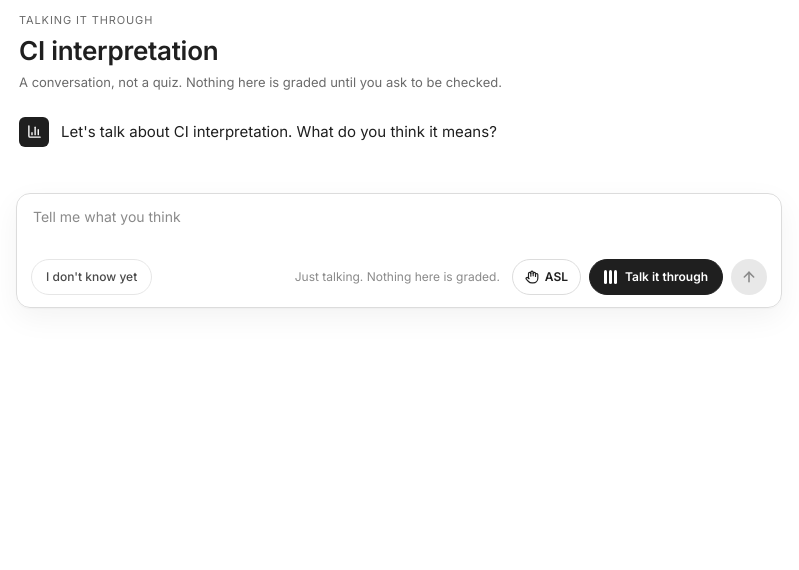
Test: Test this concept, as a conversation › answers what they said, and sends the whole conversation after the opening each time
Type "I think it means I'm 95% sure the mean is in my range" into the text box with placeholder "Tell me what you think" at (399, 228), box [31, 206, 767, 250]
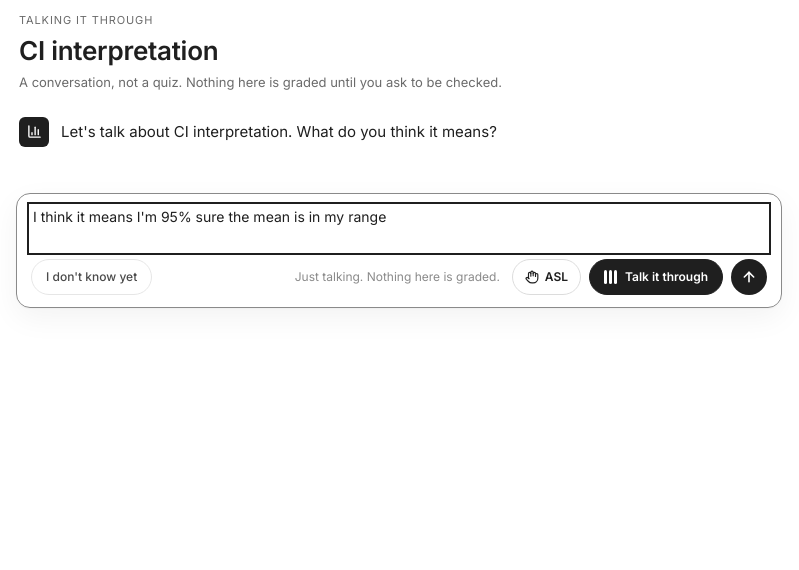
Click the button named "Send" at (749, 276), box [731, 258, 767, 294]
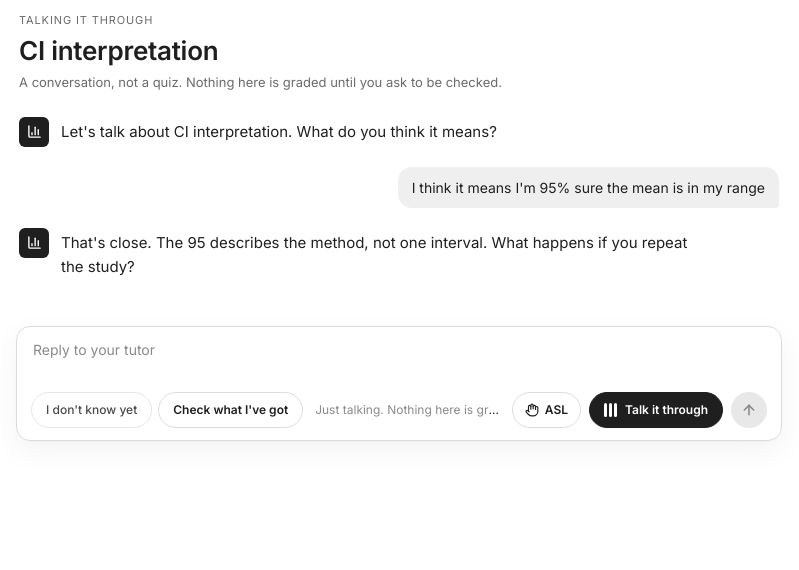
Result: the text "That's close. The 95 describes the method" is shown at [61, 232, 687, 276]
Type "Most of the intervals catch the mean" into the text box with placeholder "Reply to your tutor" at (399, 362), box [31, 339, 767, 384]
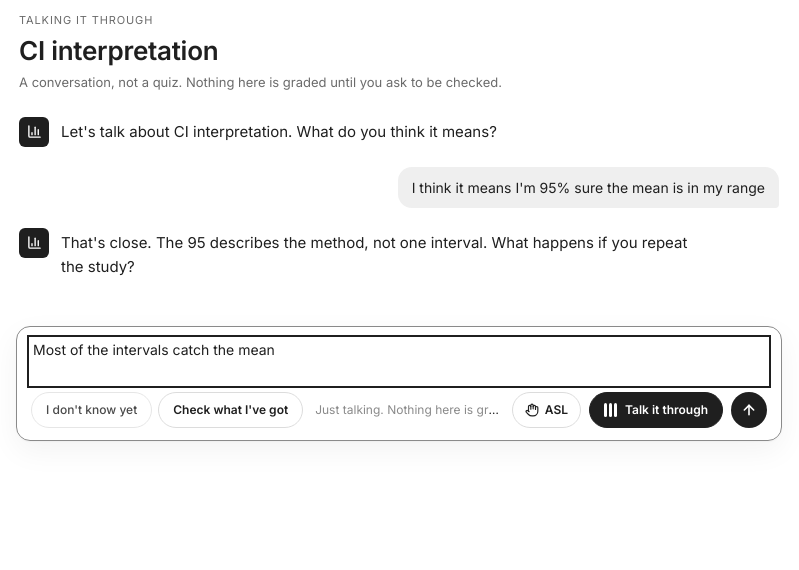
Click the button named "Send" at (749, 410), box [731, 392, 767, 428]
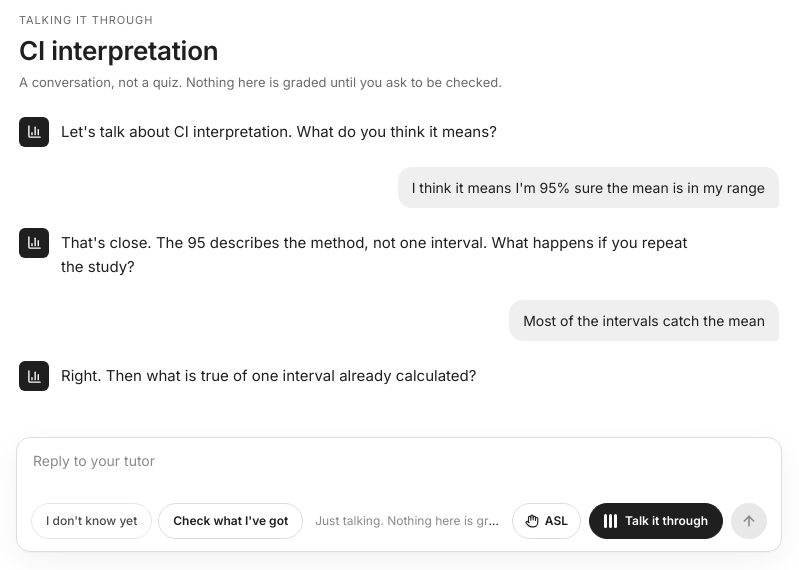
Result: the text "Right. Then what is true of one interval already calculated?" is shown at [61, 366, 476, 385]
